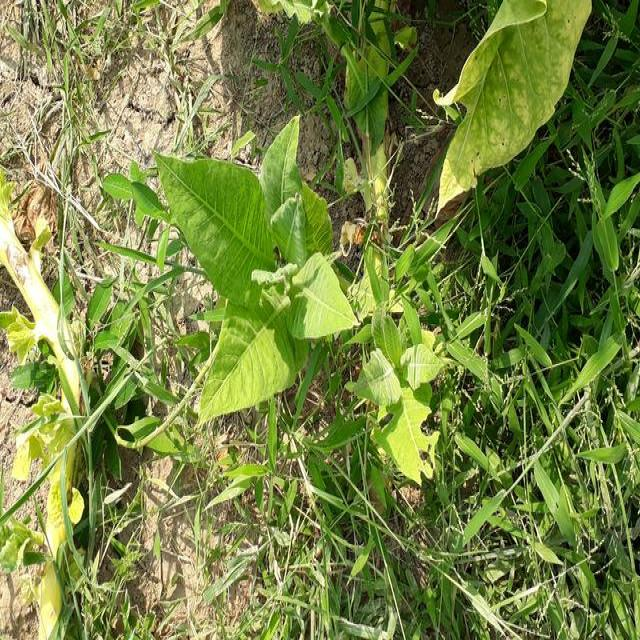crop: (167, 140, 352, 416), (445, 0, 572, 187)
